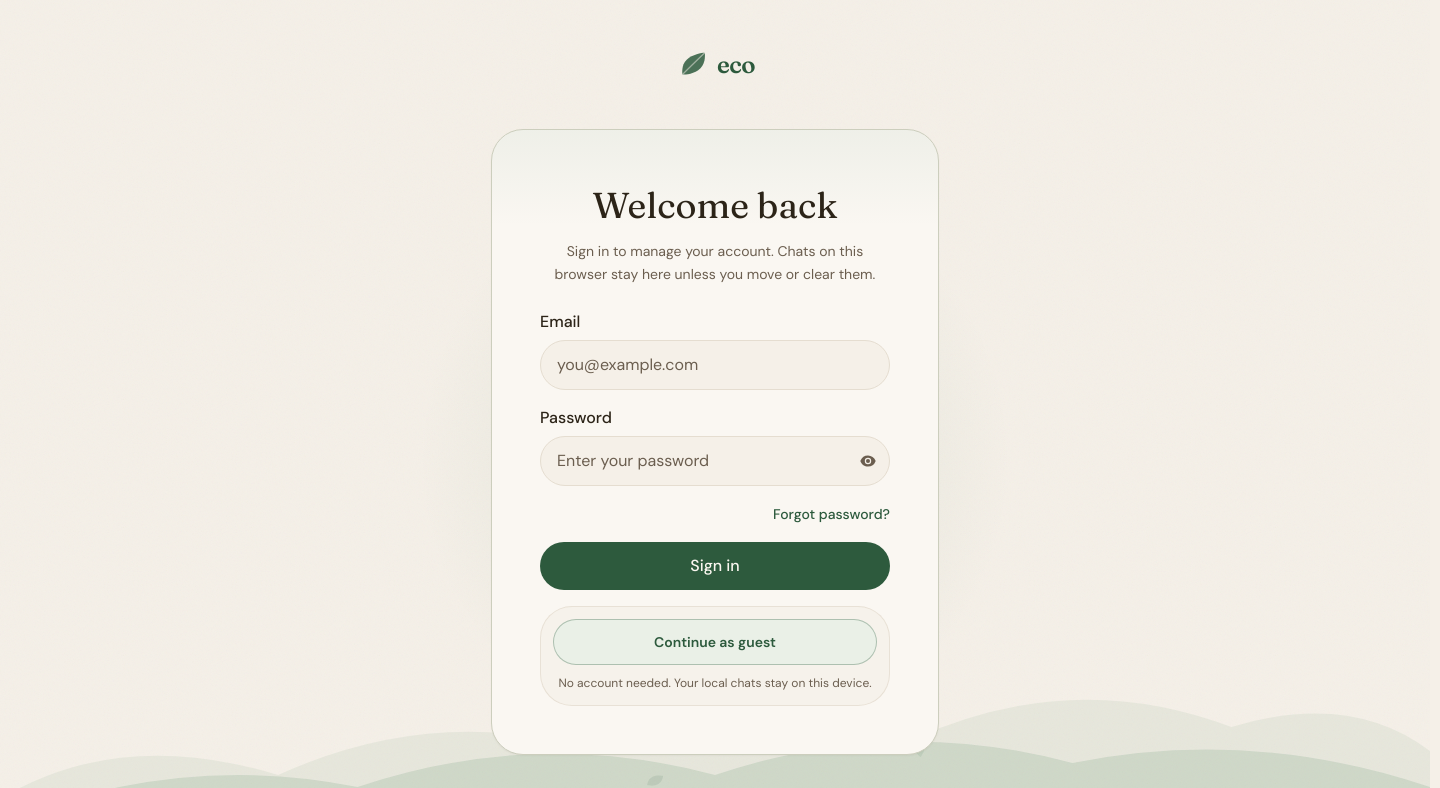
it: SignInPage › maps invalid credentials to actionable copy with an inline reset link, keeping typed email
Type "friend@eco.local" into the field labelled "Email" at [715, 364], box [540,340,890,390]
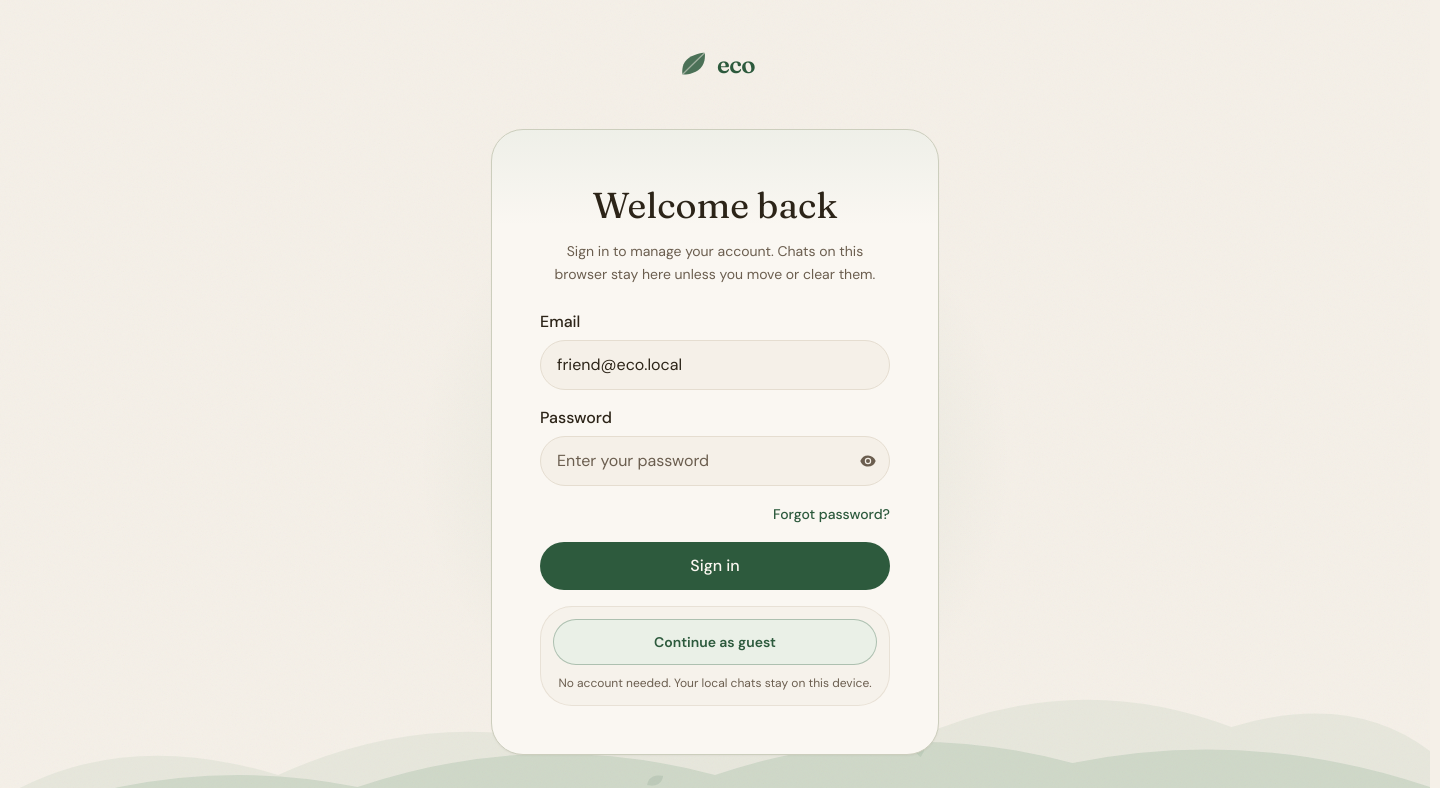
Type "wrong-password" into the password field labelled "Password" at [715, 460], box [540,436,890,486]
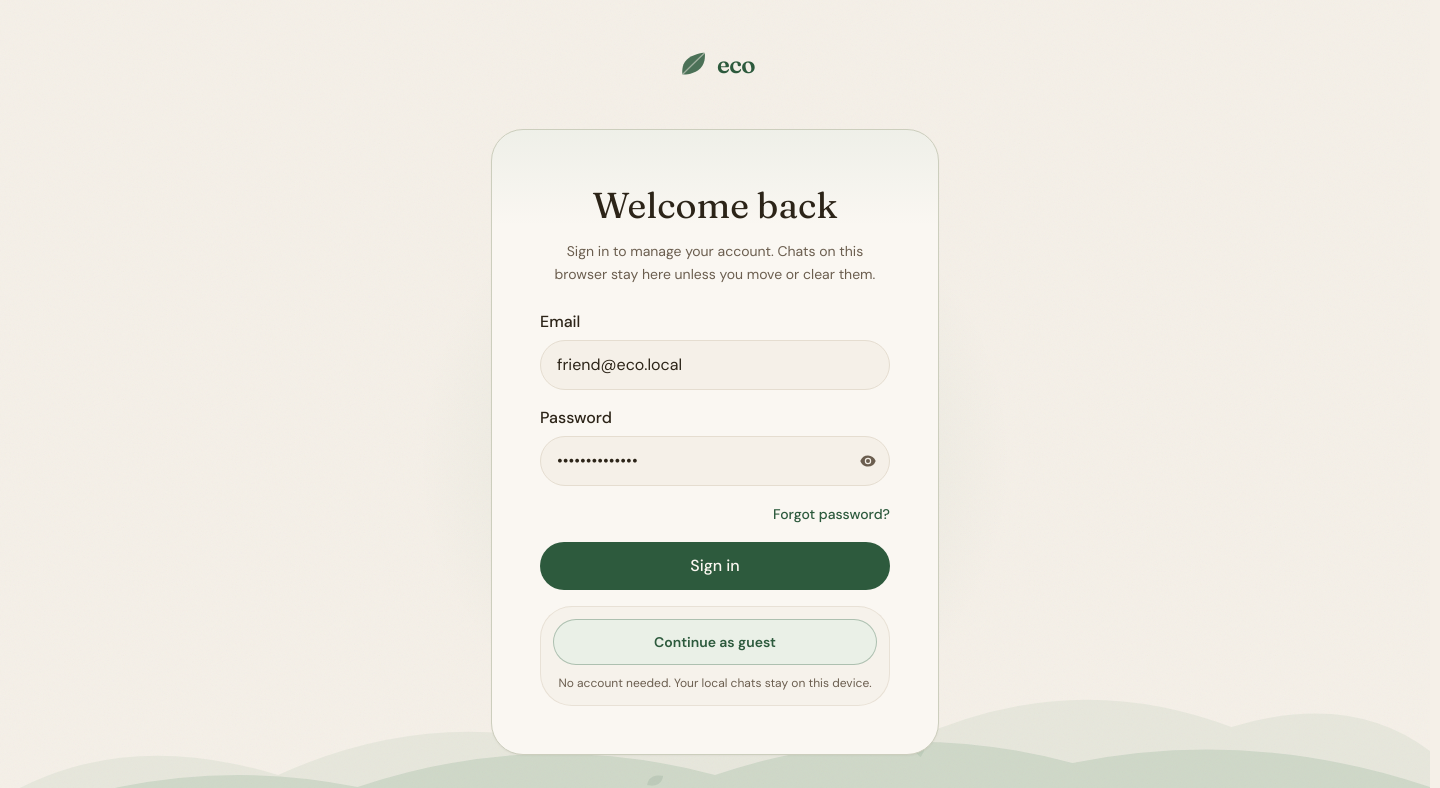
Click the button "Sign in" at [715, 566], box [540,542,890,590]
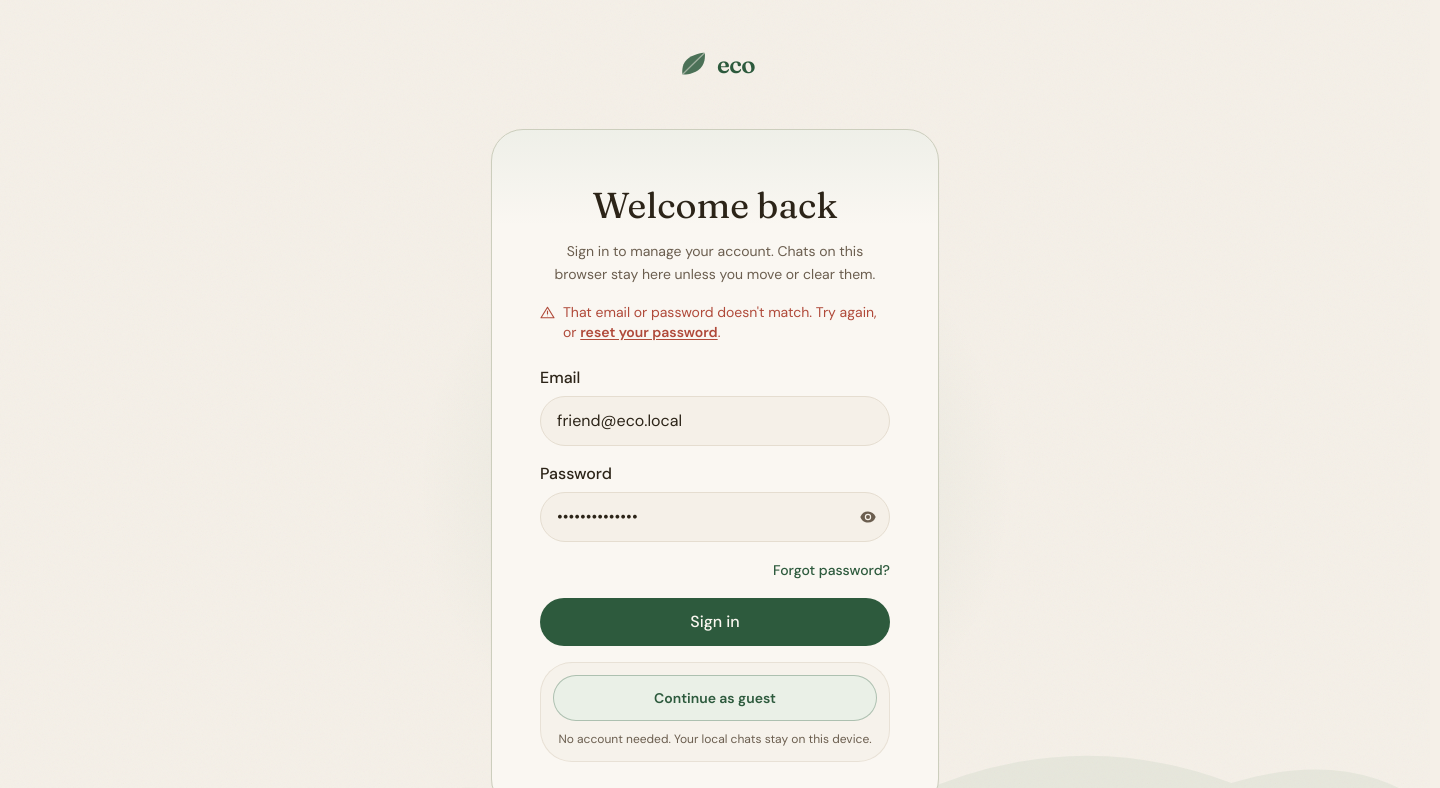
Expected: the message does not show "invalid email or password", [540,302,890,342]
Now the message reads "That email or password doesn't match. Try again, or reset your password .", box [540,302,890,342]
